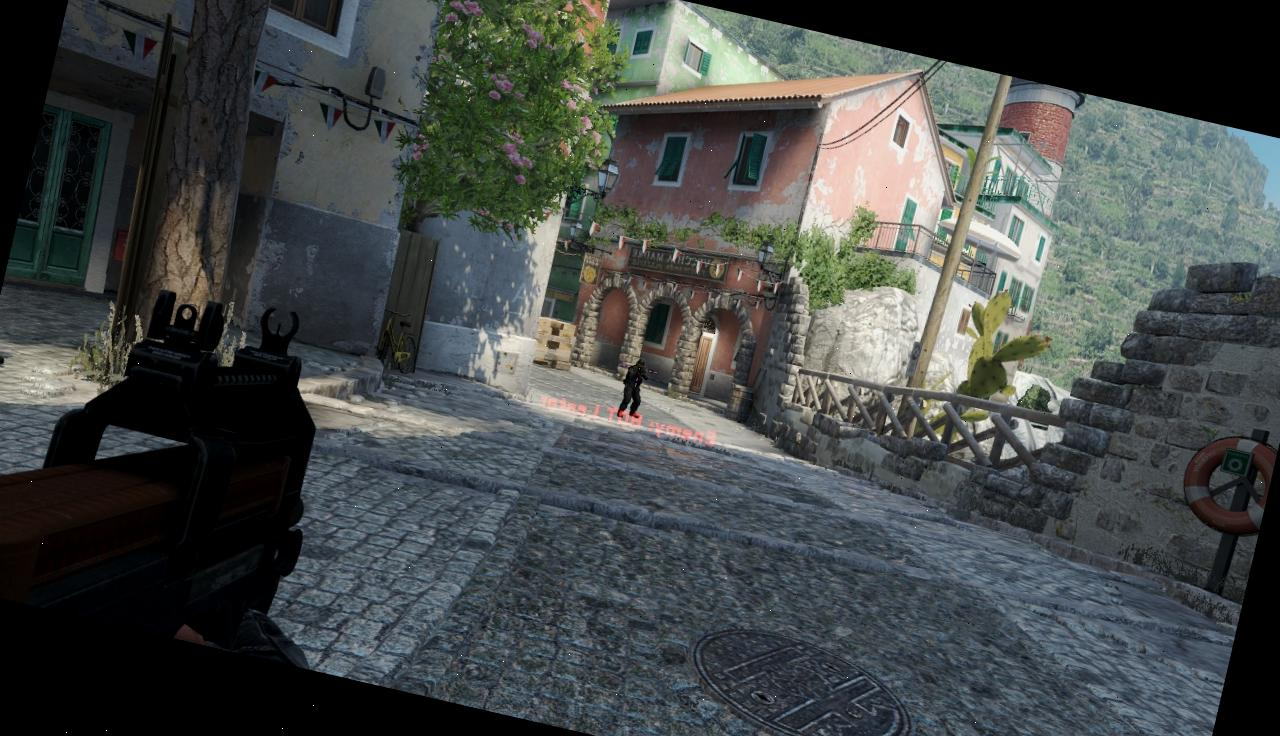ct: (616, 358, 650, 422)
cthead: (632, 358, 646, 372)
rifle: (0, 239, 348, 655)
